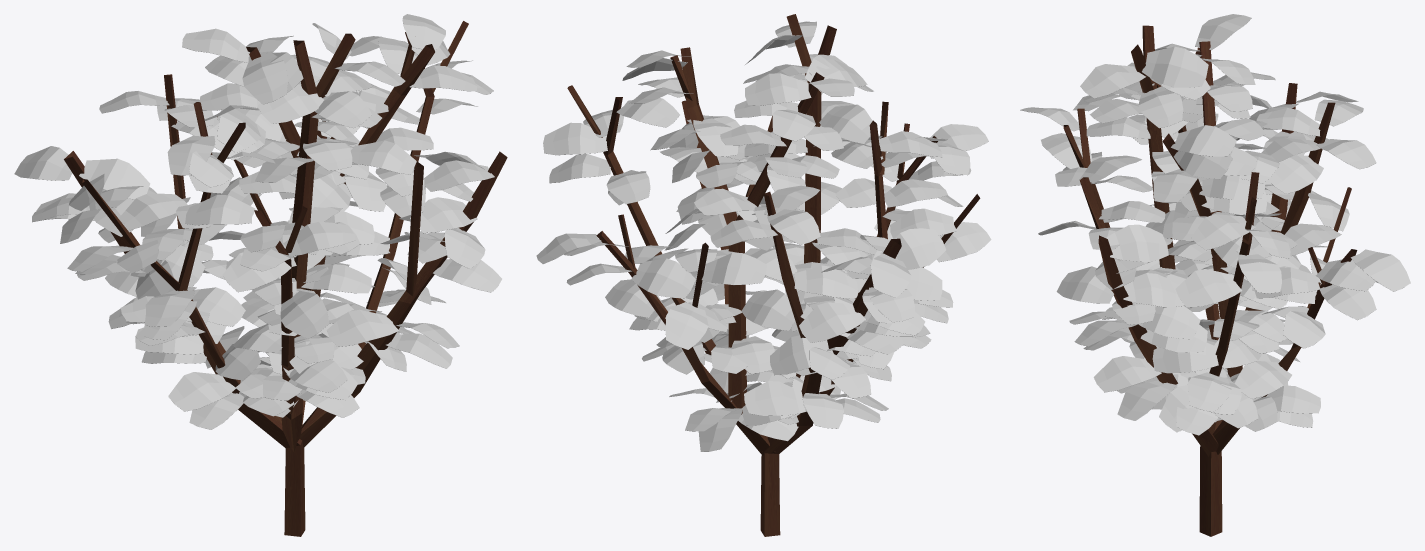
The model's file is Tree_LeafV2.fbx.
The picture shows the model from 3 angles, left to right: view 1: azimuth 30°, elevation 25°; view 2: azimuth 150°, elevation 25°; view 3: azimuth 270°, elevation 25°; orthographic projection. The views are drawn at different scales.
Visible parts, largest first — view 1: leaf.001, BigTreeNokrei.001; view 2: leaf.001, BigTreeNokrei.001; view 3: leaf.001, BigTreeNokrei.001.
Boxes of the visible parts, left/top/right/bottom form: leaf.001: left=14, top=14, right=501, bottom=429; BigTreeNokrei.001: left=64, top=21, right=507, bottom=536; leaf.001: left=536, top=21, right=991, bottom=451; BigTreeNokrei.001: left=567, top=14, right=980, bottom=536; leaf.001: left=1020, top=14, right=1410, bottom=435; BigTreeNokrei.001: left=1063, top=25, right=1357, bottom=536.
Size of the model in its own units: 1235 by 1443 by 1036.
